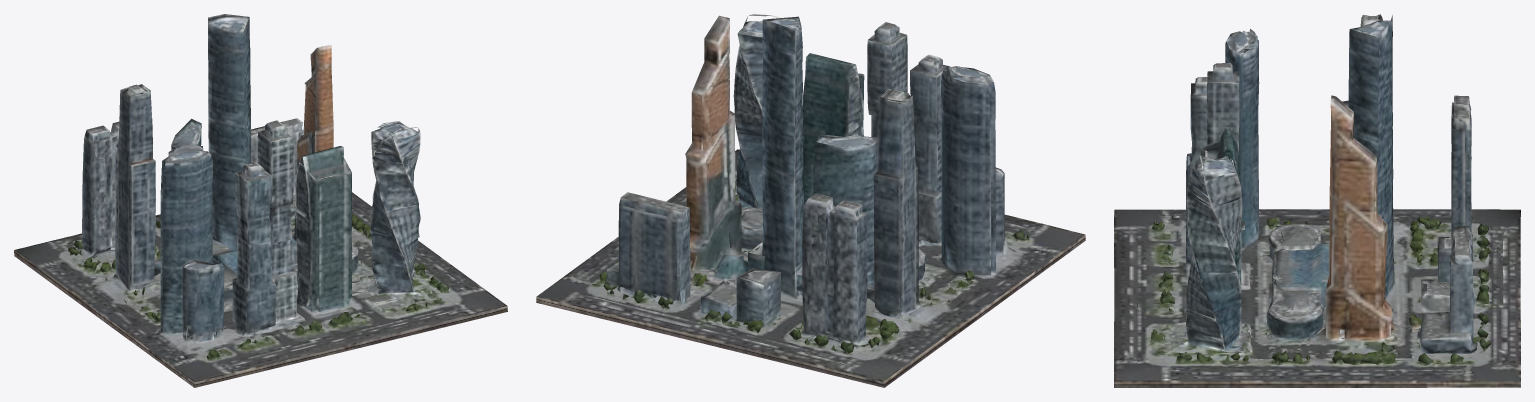
Rendered from moscow_city_xfar.glb.
3 renders of one model, left to right at view 1: azimuth 30°, elevation 25°; view 2: azimuth 150°, elevation 25°; view 3: azimuth 270°, elevation 25°, orthographic. The views are drawn at different scales.
Visible parts, largest first — view 1: moscow_city; view 2: moscow_city; view 3: moscow_city.
Boxes of the visible parts, <box> form: moscow_city: <box>14,14,507,387</box>; moscow_city: <box>536,14,1085,387</box>; moscow_city: <box>1114,14,1520,387</box>.
Bounding box in the file's own units: 1.9 × 1.43 × 1.9.
1 material, 1 textured.
